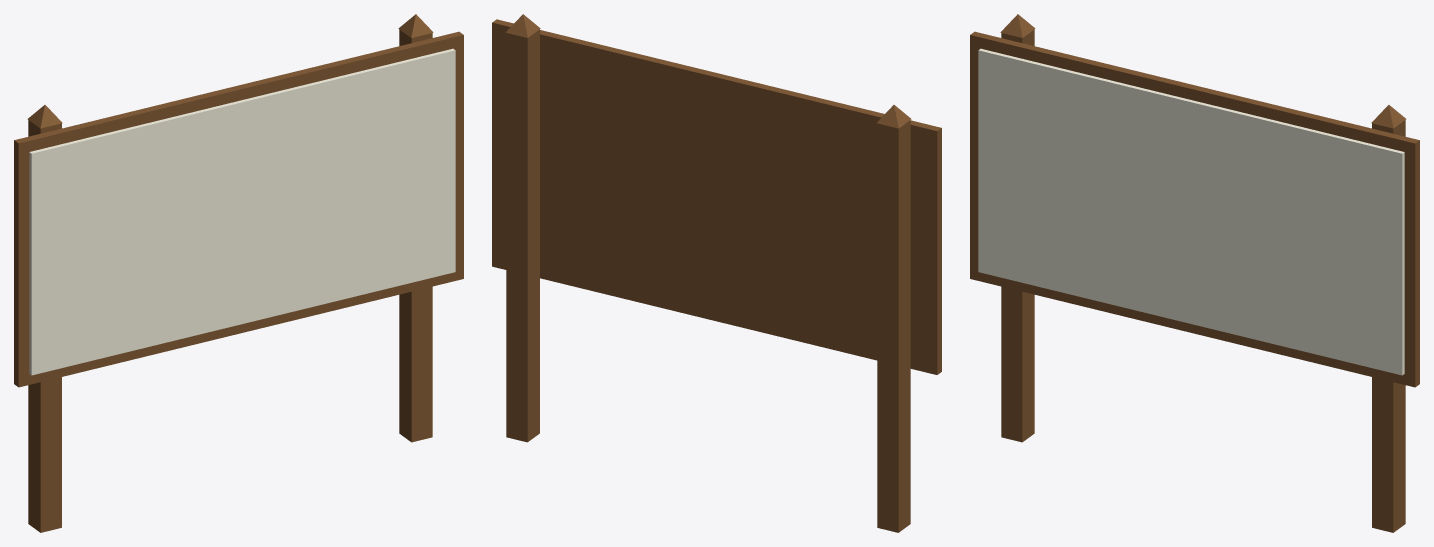
File: sign.glb
The picture shows the model from 3 angles, left to right: view 1: azimuth 30°, elevation 25°; view 2: azimuth 150°, elevation 25°; view 3: azimuth 330°, elevation 25°; orthographic projection.
Parts seen in each view (by area): view 1: board, backing, post_poles, post_caps; view 2: backing, post_poles, post_caps; view 3: board, backing, post_poles, post_caps.
Part boxes in pixels (bbox=[...]): board: bbox=[29, 48, 455, 375]; backing: bbox=[14, 31, 463, 387]; post_poles: bbox=[28, 29, 432, 532]; post_caps: bbox=[27, 14, 433, 128]; backing: bbox=[492, 19, 941, 374]; post_poles: bbox=[506, 29, 910, 532]; post_caps: bbox=[506, 14, 911, 128]; board: bbox=[978, 48, 1404, 375]; backing: bbox=[970, 31, 1419, 387]; post_poles: bbox=[1001, 29, 1405, 532]; post_caps: bbox=[1000, 14, 1406, 128].
Bounding box in the file's own units: 3.36 × 3.04 × 0.2549.
